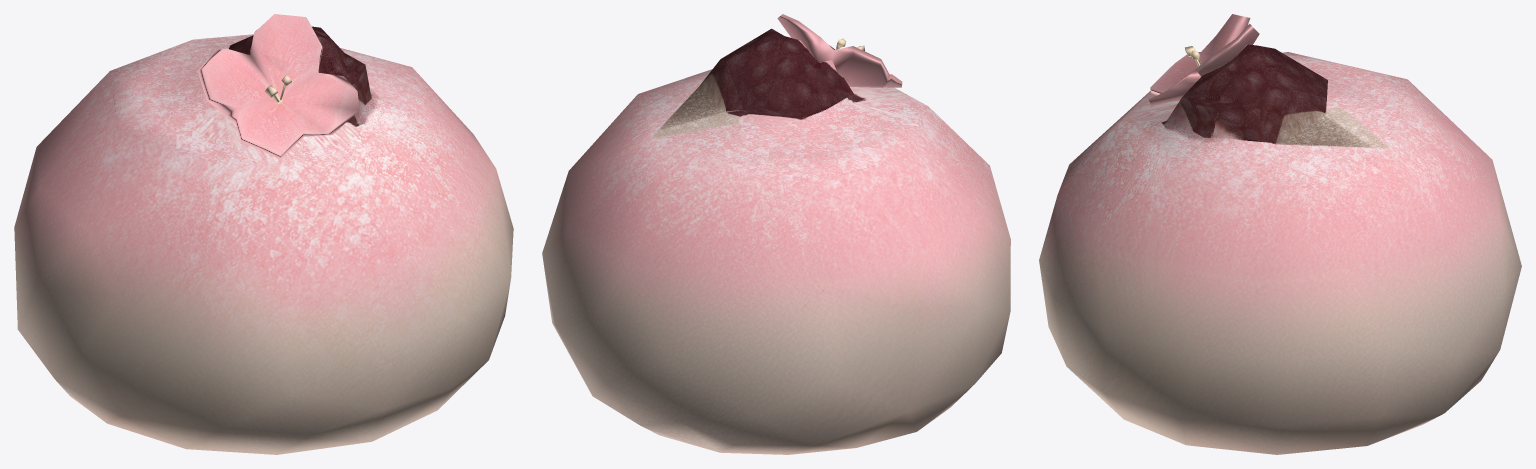
The model's file is source.fbx.
The picture shows the model from 3 angles, left to right: view 1: azimuth 30°, elevation 25°; view 2: azimuth 150°, elevation 25°; view 3: azimuth 270°, elevation 25°; orthographic projection. The views are drawn at different scales.
Parts seen in each view (by area): view 1: Mesh_0; view 2: Mesh_0; view 3: Mesh_0.
Boxes of the visible parts, x1,y1,x2,y2 form: Mesh_0: (14, 14, 513, 454); Mesh_0: (542, 14, 1010, 454); Mesh_0: (1039, 14, 1521, 454).
Bounding box in the file's own units: 22.3 × 18 × 22.42.
1 material, 1 textured.
